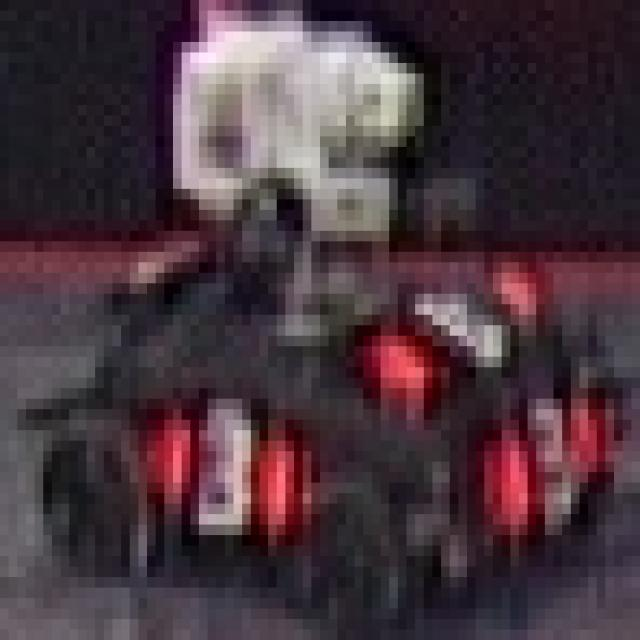R3: (121, 378, 311, 556), (450, 388, 605, 535)
